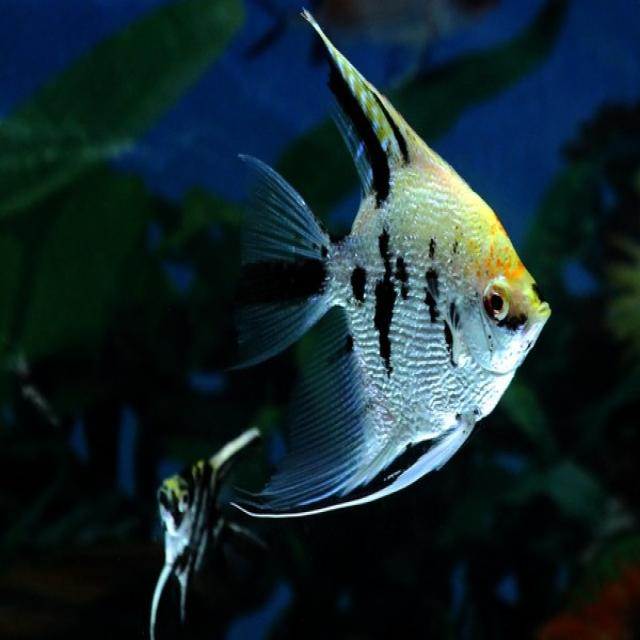AngelFish: (242, 9, 554, 505), (149, 430, 261, 636)
